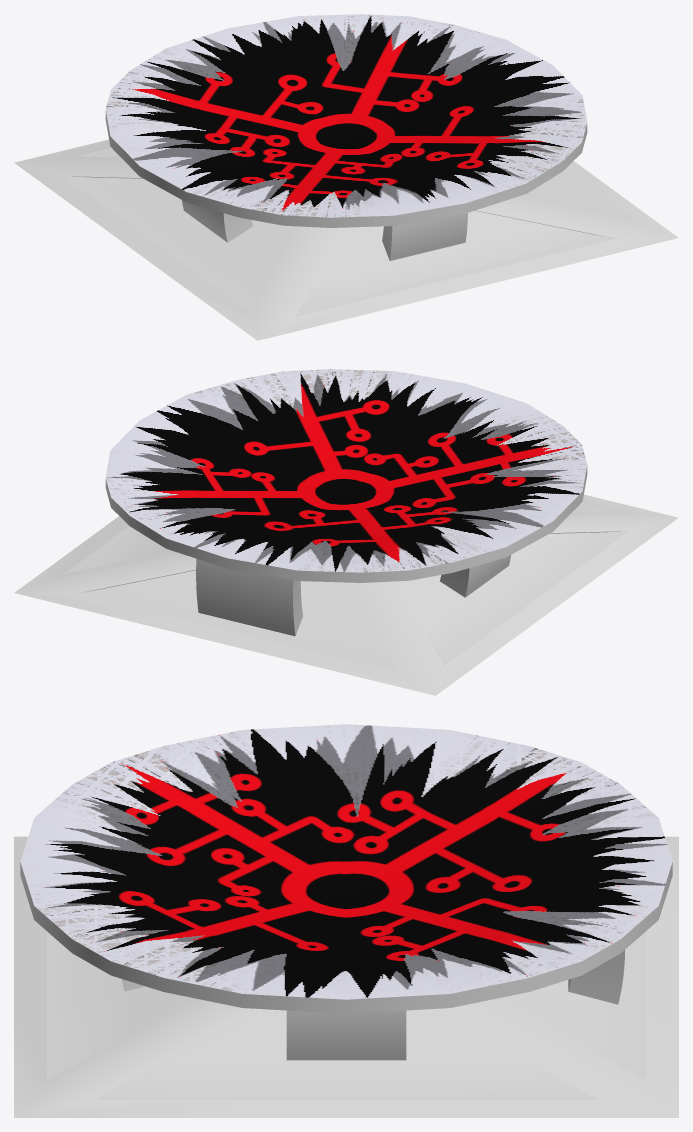
Rendered from recieverred.fbx.
3 views of the same model, one above another, from view 1: azimuth 30°, elevation 25°; view 2: azimuth 150°, elevation 25°; view 3: azimuth 270°, elevation 25° (orthographic). The views are drawn at different scales.
Parts seen in each view (by area): view 1: Cube.001, Cube.003, Cube, Cube.002; view 2: Cube.001, Cube.003, Cube, Cube.002; view 3: Cube.001, Cube.003, Cube, Cube.002.
Boxes of the visible parts, bbox=[...] form: Cube.001: bbox=[105, 14, 587, 217]; Cube.003: bbox=[64, 148, 628, 316]; Cube: bbox=[14, 139, 678, 340]; Cube.002: bbox=[105, 111, 587, 227]; Cube.001: bbox=[105, 369, 587, 572]; Cube.003: bbox=[64, 503, 628, 671]; Cube: bbox=[14, 494, 678, 695]; Cube.002: bbox=[105, 466, 587, 582]; Cube.001: bbox=[20, 724, 672, 999]; Cube.003: bbox=[47, 931, 645, 1099]; Cube: bbox=[14, 836, 678, 1117]; Cube.002: bbox=[20, 862, 672, 1013].
Bounding box in the file's own units: 200 × 38.29 × 200.
4 materials, 1 textured.
